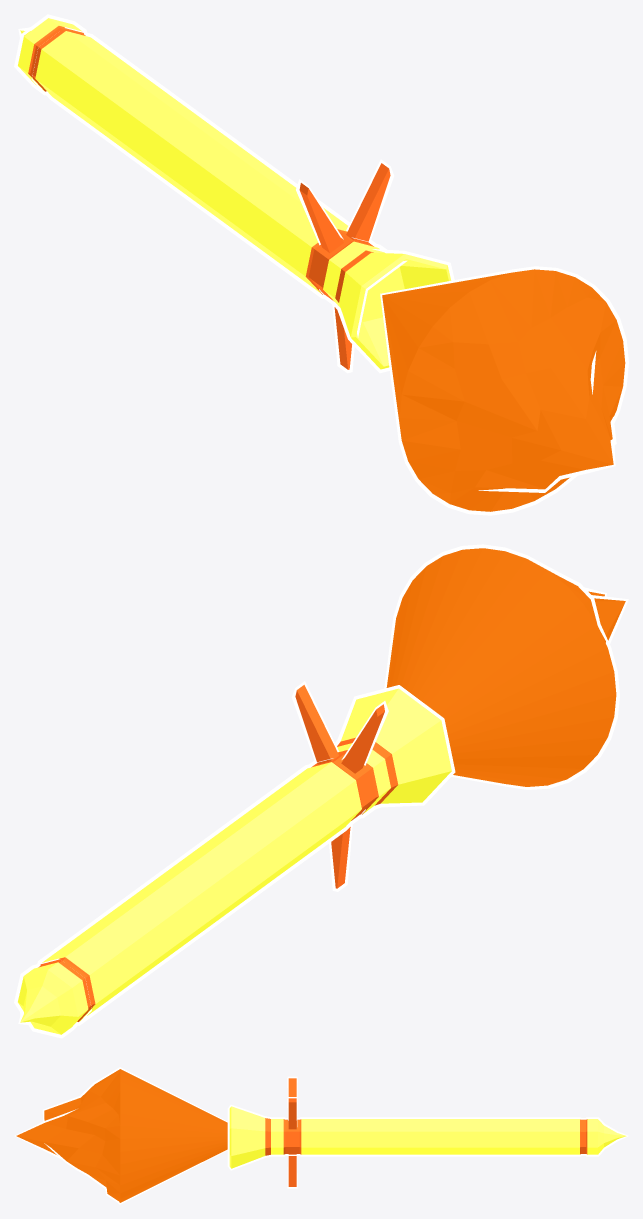
Rendered from LFD Rocket.glb.
The picture shows the model from 3 angles, top to bottom: view 1: azimuth 30°, elevation 25°; view 2: azimuth 150°, elevation 25°; view 3: azimuth 270°, elevation 25°; orthographic projection. The views are drawn at different scales.
Visible parts, largest first — view 1: Rocket; view 2: Rocket; view 3: Rocket.
Boxes of the visible parts, x1,y1,x2,y2 form: Rocket: (14,14,628,515); Rocket: (14,544,628,1038); Rocket: (14,1067,628,1204).
Bounding box in the file's own units: 0.9746 × 0.9738 × 4.34.
